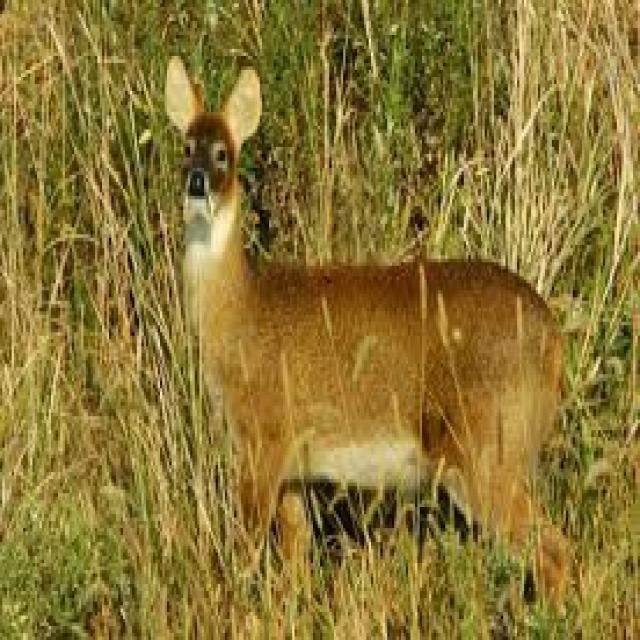elk: (112, 23, 599, 637)
